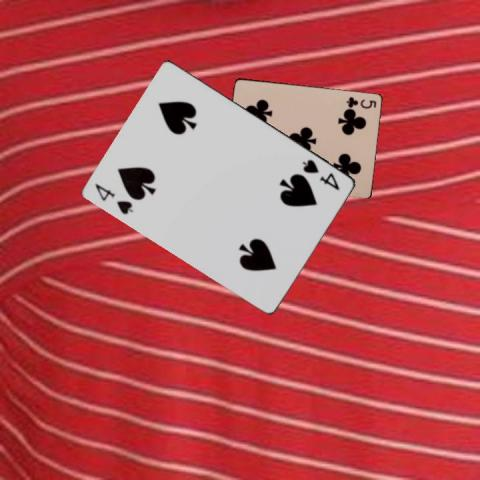4s: (300, 156, 342, 192), (92, 181, 135, 216)
5c: (344, 94, 377, 110)
